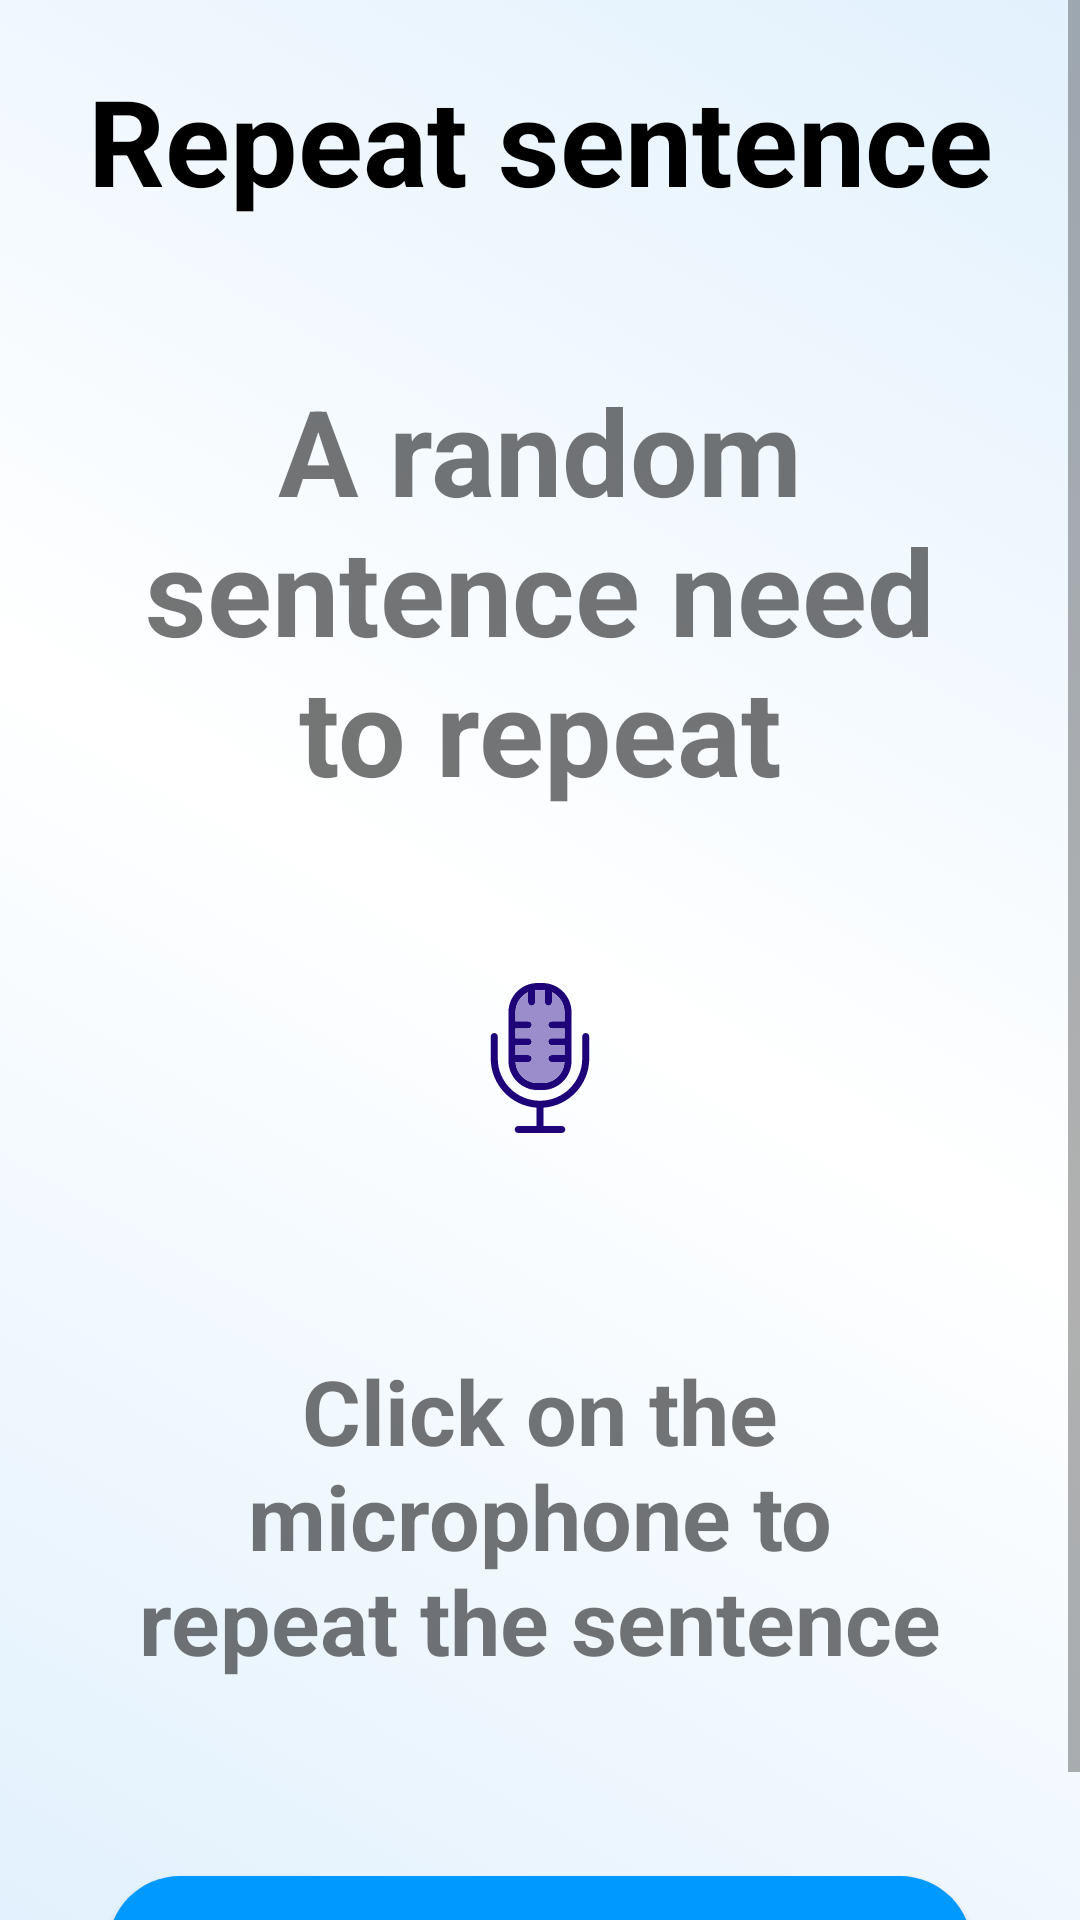

Screen size 1080px×1920px. Icon name, then its box in pixels as region(x1, y1, x2, y2):
microphone: region(490, 983, 590, 1133)
